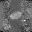people: (10, 11, 22, 20)
